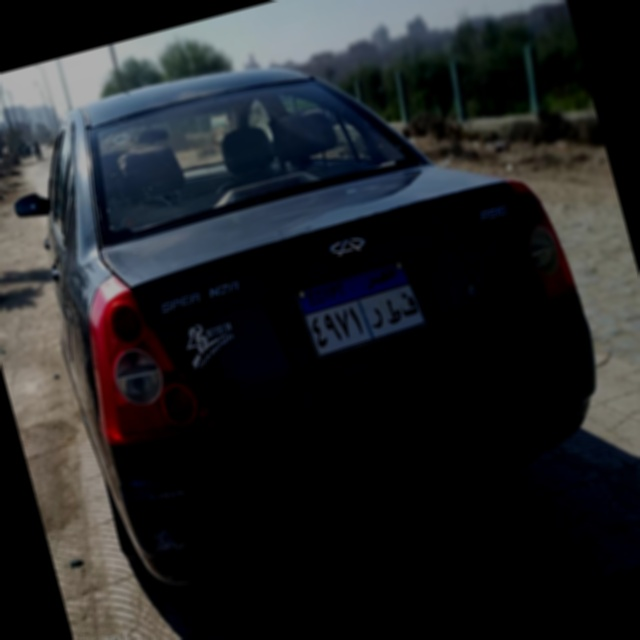License Plate: (292, 255, 430, 361)
